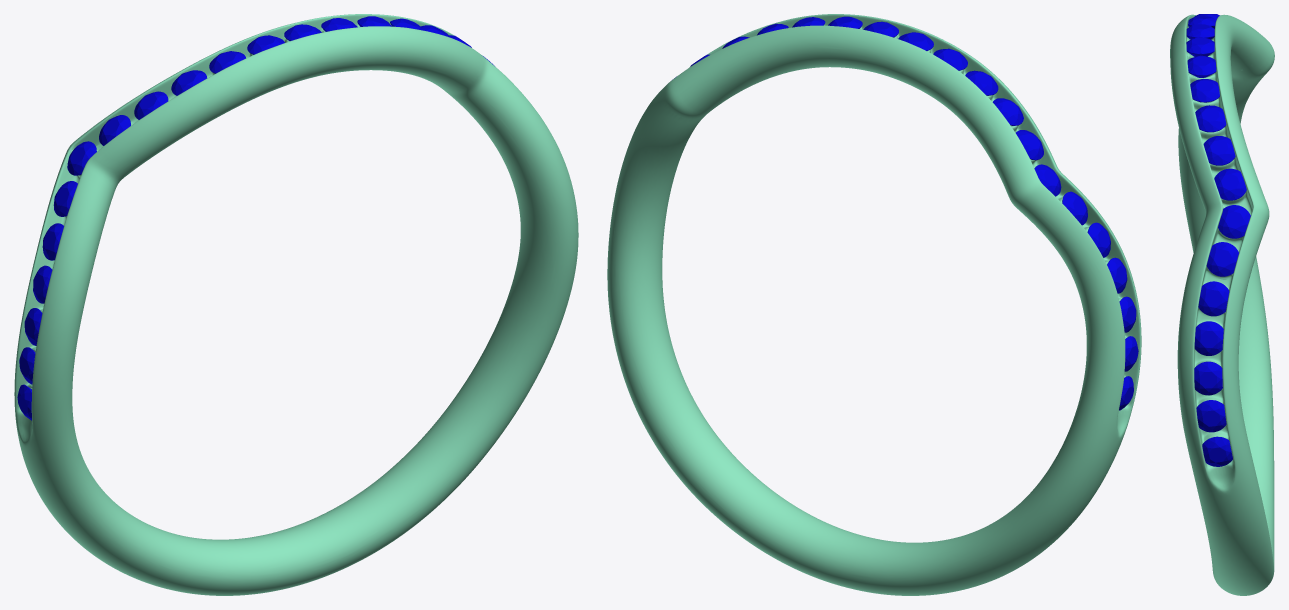
The picture shows the model from 3 angles, left to right: view 1: azimuth 30°, elevation 25°; view 2: azimuth 150°, elevation 25°; view 3: azimuth 270°, elevation 25°; orthographic projection. The views are drawn at different scales.
Visible parts, largest first — view 1: Metal03; view 2: Metal03; view 3: Metal03, Diamond_Band.007, Diamond_Band.008, Diamond_Band.006, Diamond_Band.009, Diamond_Band.012, Diamond_Band.010, Diamond_Band.005, Diamond_Band.011, Diamond_Band.004, Diamond_Band.003, Diamond_Band.002 (+4 smaller).
Boxes of the visible parts, x1,y1,x2,y2 form: Metal03: (14, 14, 578, 595); Metal03: (607, 14, 1141, 595); Metal03: (1170, 14, 1274, 595); Diamond_Band.007: (1198, 281, 1229, 316); Diamond_Band.008: (1194, 321, 1223, 355); Diamond_Band.006: (1206, 242, 1238, 276); Diamond_Band.009: (1194, 361, 1222, 395); Diamond_Band.012: (1218, 205, 1250, 238); Diamond_Band.010: (1196, 400, 1226, 432); Diamond_Band.005: (1214, 168, 1246, 200); Diamond_Band.011: (1202, 436, 1232, 466); Diamond_Band.004: (1203, 136, 1235, 165); Diamond_Band.003: (1195, 105, 1226, 132); Diamond_Band.002: (1190, 79, 1219, 102).
Bounding box in the file's own units: 20.68 × 20.79 × 3.74.
